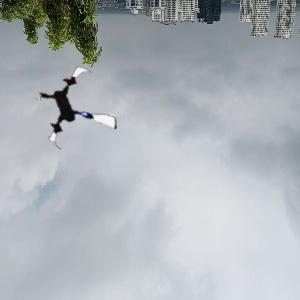drone: (32, 65, 122, 155)
